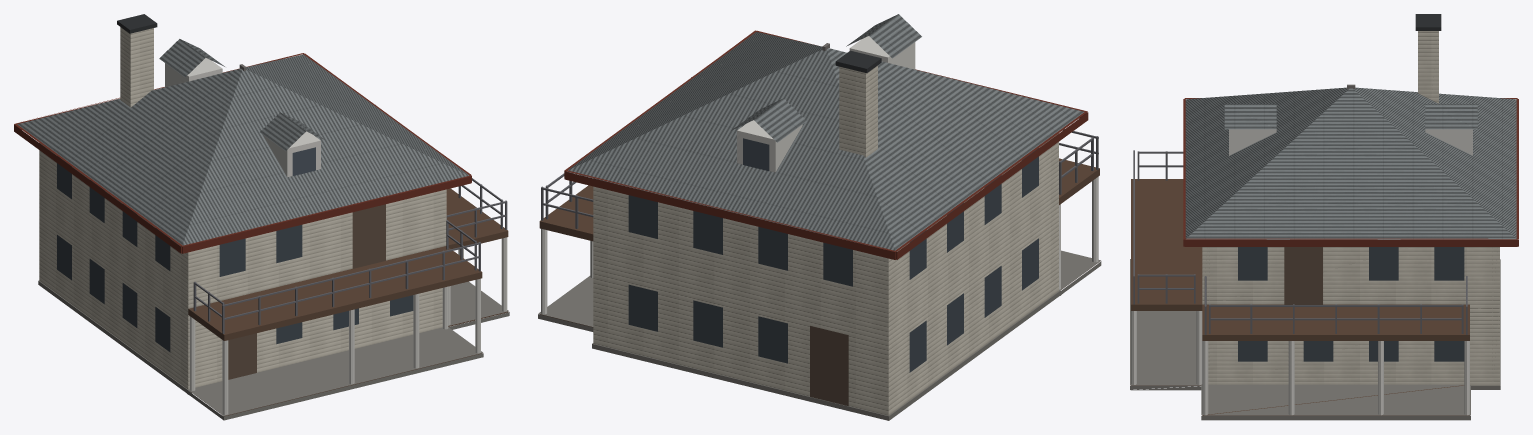
The model's file is cr-foursquare.zfix-v22.lod1.glb.
3 views of the same model, side by side, from view 1: azimuth 30°, elevation 25°; view 2: azimuth 150°, elevation 25°; view 3: azimuth 270°, elevation 25° (orthographic). The views are drawn at different scales.
Visible parts, largest first — view 1: cr-foursquare; view 2: cr-foursquare; view 3: cr-foursquare.
Boxes of the visible parts, left/top/right/bottom form: cr-foursquare: left=14, top=14, right=509, bottom=420; cr-foursquare: left=538, top=14, right=1101, bottom=420; cr-foursquare: left=1130, top=14, right=1518, bottom=420.
Bounding box in the file's own units: 13.07 × 10.17 × 13.07.
Materials: 3 (2 with a texture image).
